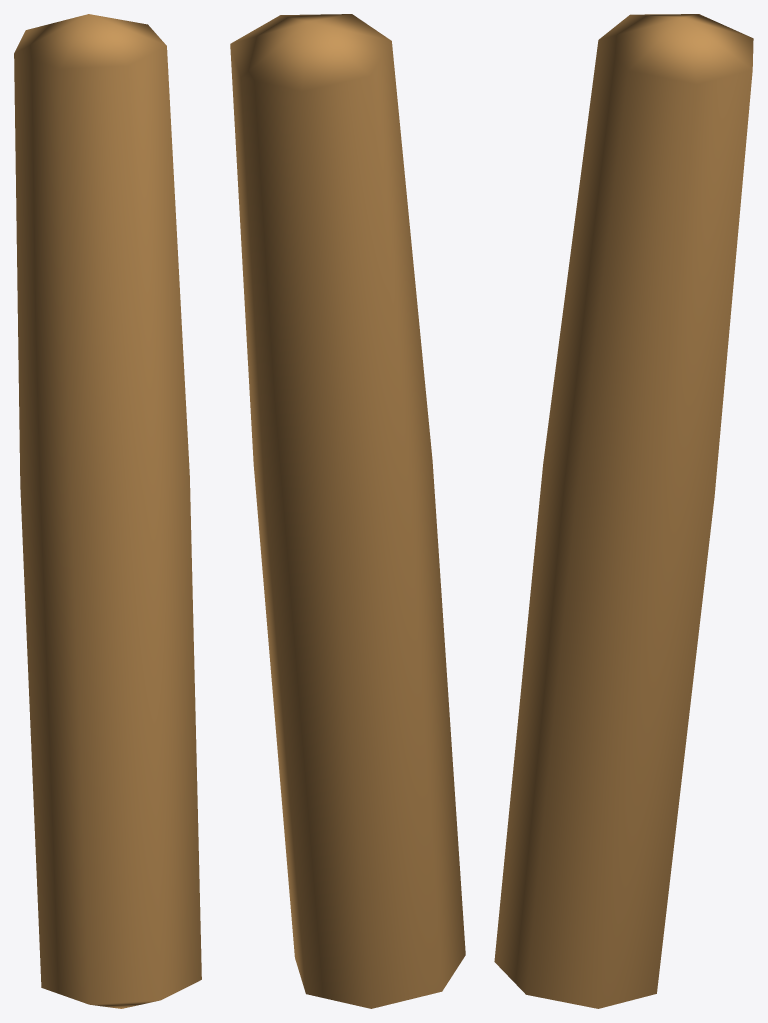
File: claw_T3_left_leg.obj
The picture shows the model from 3 angles, left to right: view 1: azimuth 30°, elevation 25°; view 2: azimuth 150°, elevation 25°; view 3: azimuth 270°, elevation 25°; orthographic projection. The views are drawn at different scales.
Bounding box in the file's own units: 0.00227 × 0.0135 × 0.00319.
